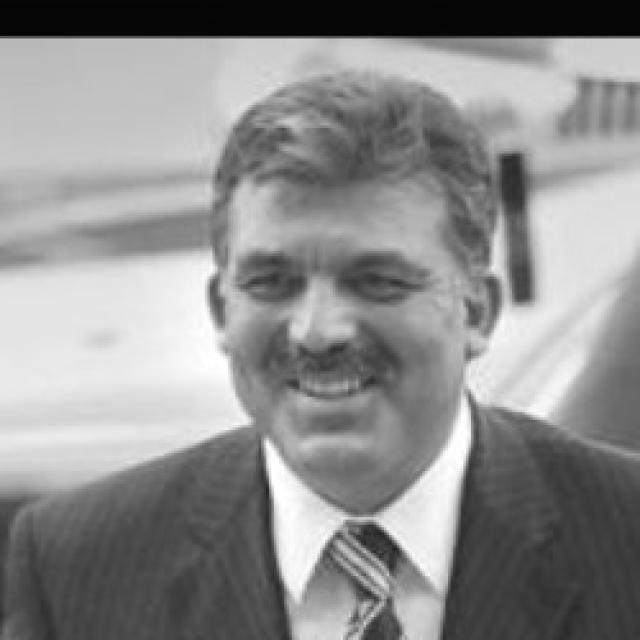real: (212, 94, 487, 522), (231, 235, 439, 330)
